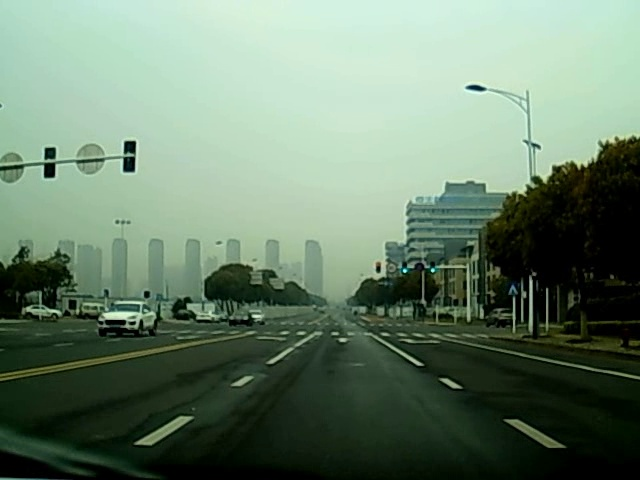Traffic_Light_go: (427, 259, 436, 275), (401, 261, 408, 275)
